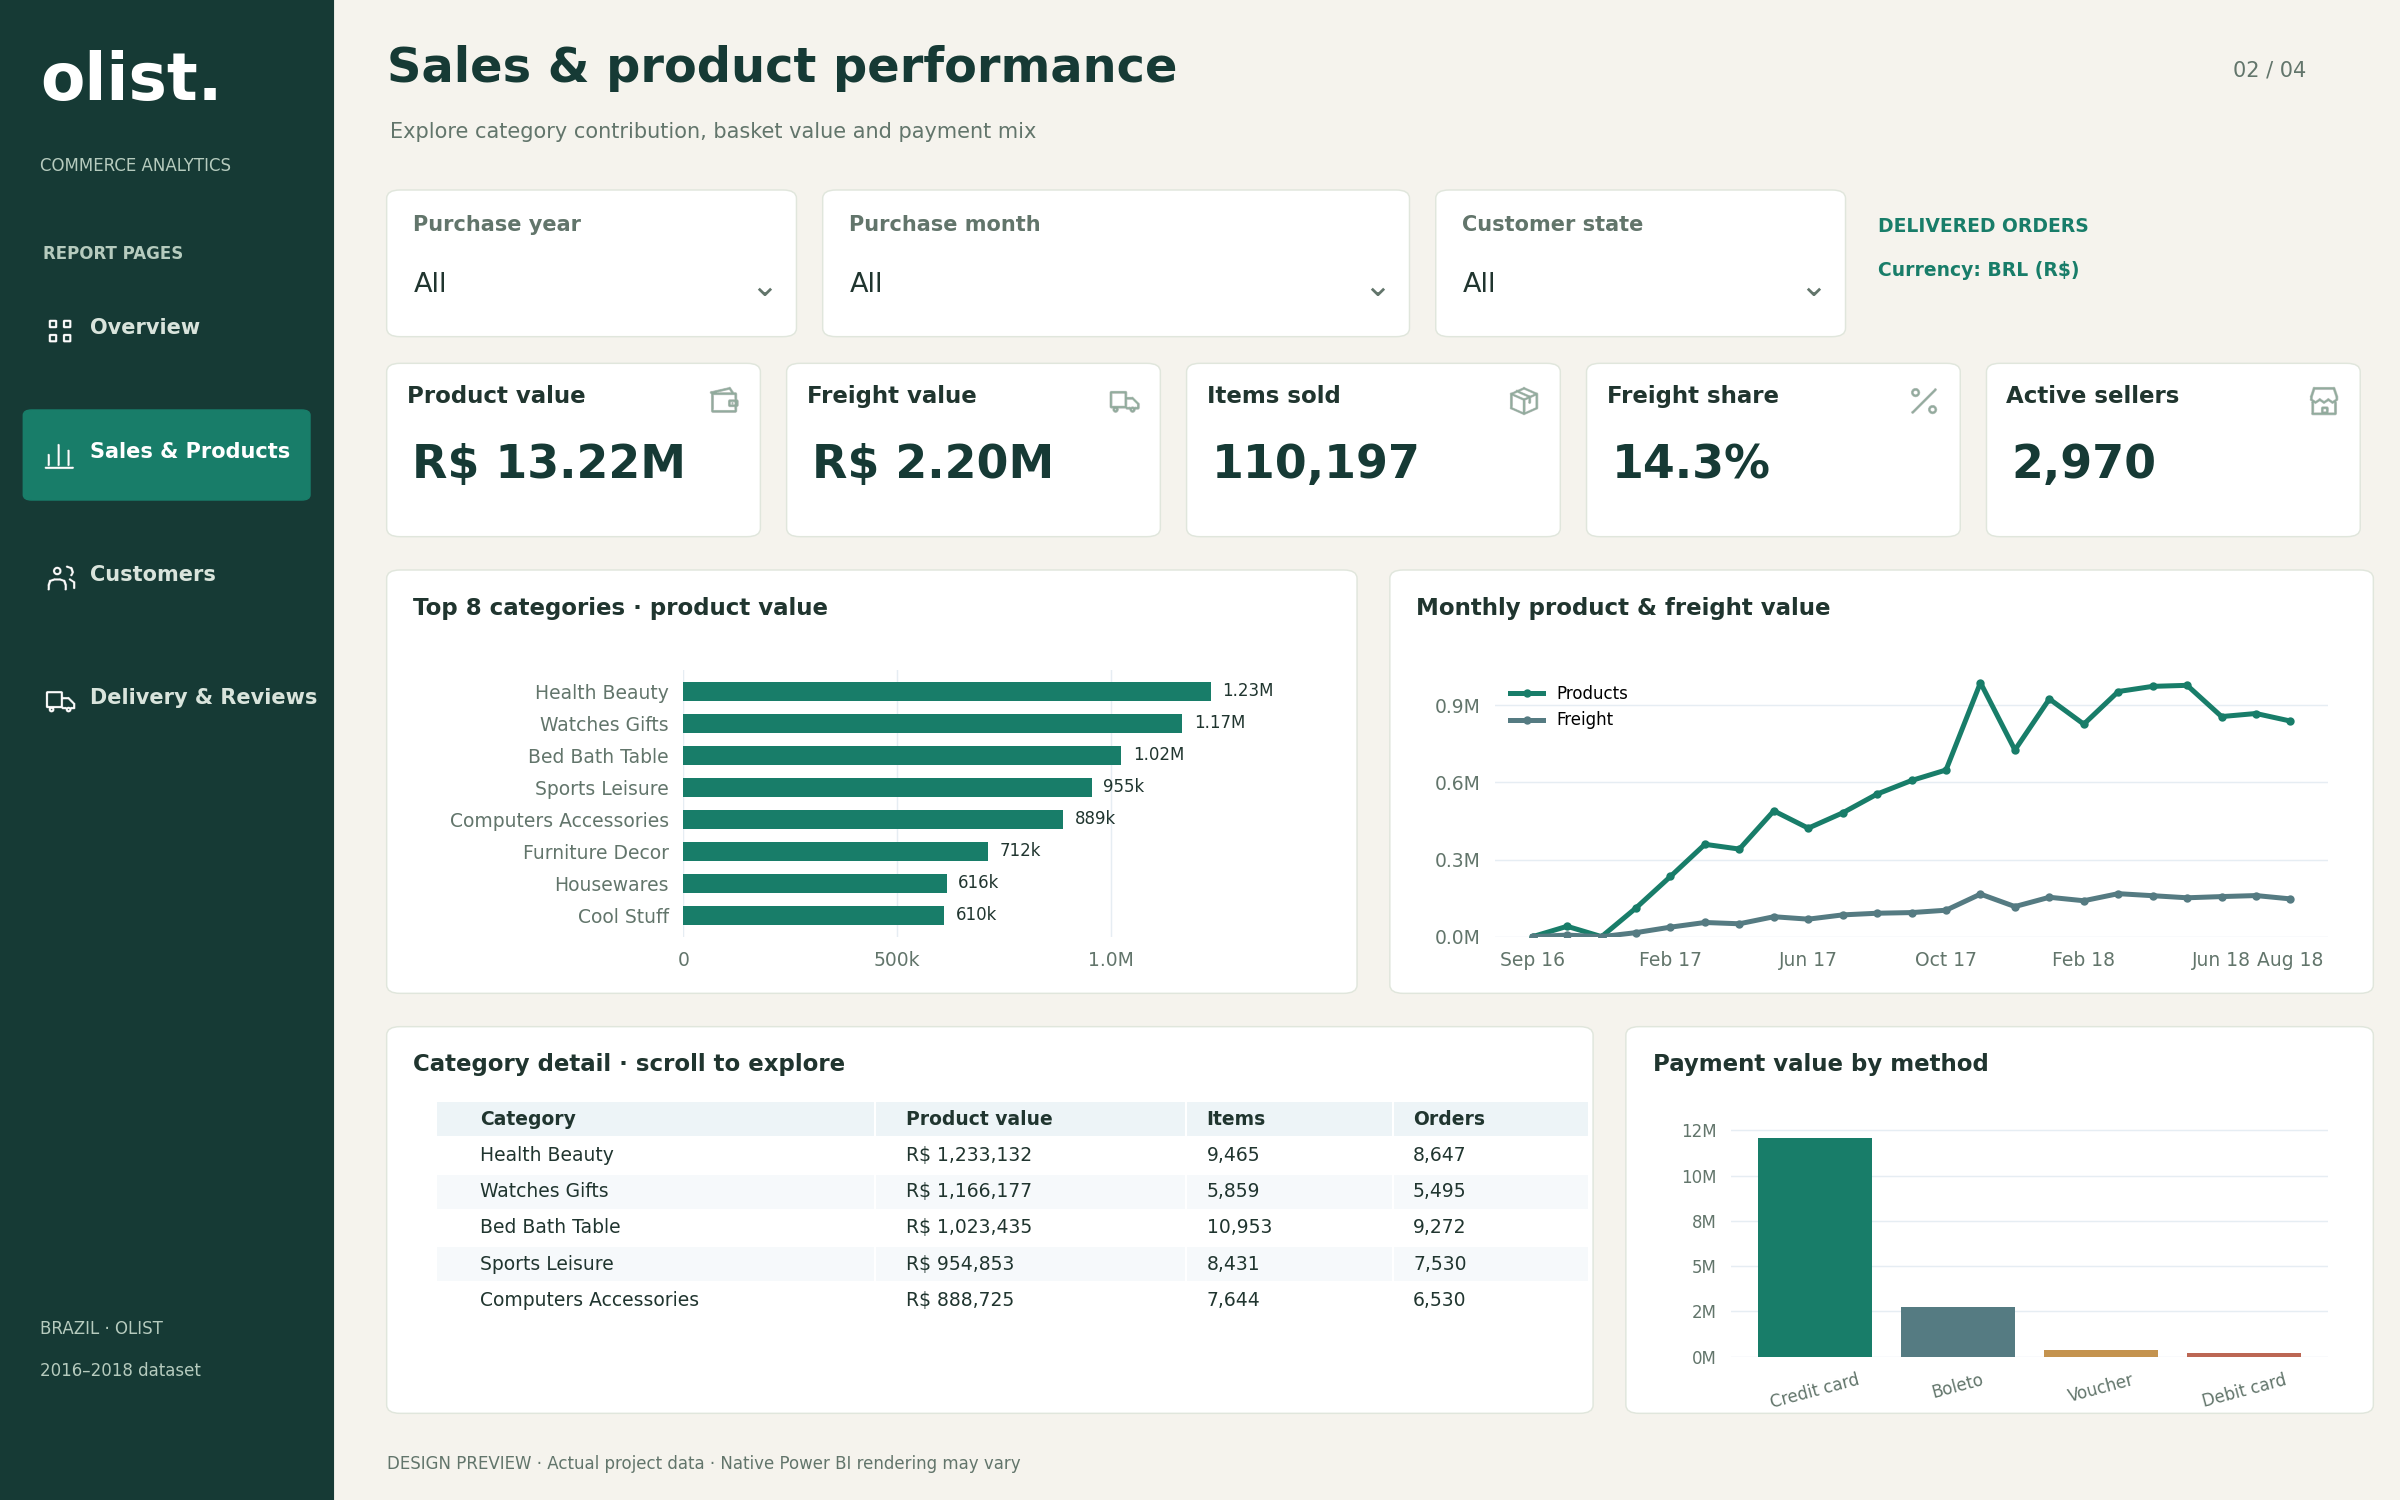

The page's visual inventory and layout, read from the dashboard file:
{"tool":"powerbi","page":{"name":"Sales & Products","canvas":[1440,900],"ordinal":1},"visuals":[{"type":"textbox","box":[0,0,200,900],"z":30},{"type":"textbox","box":[24,22,135,68],"z":31},{"type":"textbox","box":[24,94,140,38],"z":32},{"type":"actionButton","box":[14,172,172,54],"z":33},{"type":"actionButton","box":[14,246,172,54],"z":34},{"type":"actionButton","box":[14,320,172,54],"z":35},{"type":"actionButton","box":[14,394,172,54],"z":36},{"type":"textbox","box":[24,790,142,78],"z":37},{"type":"textbox","box":[232,18,1022.8,58],"z":38},{"type":"textbox","box":[234,72,1022.8,36],"z":39},{"type":"slicer","title":"Purchase Year","fields":{"Values":["Date.Year"]},"box":[232,114,245.9,88],"z":40},{"type":"slicer","title":"Purchase Month","fields":{"Values":["Date.Month"]},"box":[493.6,114,352.1,88],"z":41},{"type":"slicer","title":"Customer state","fields":{"Values":["Orders.State"]},"box":[861.4,114,245.9,88],"z":42},{"type":"textbox","box":[1127,114,277.4,88],"z":43},{"type":"textbox","box":[232,854,1172.3,38],"z":44},{"type":"card","fields":{"Values":["Orders.Card · Product Revenue"]},"box":[232,218,224.2,104],"z":45},{"type":"card","fields":{"Values":["Orders.Card · Freight Value"]},"box":[472,218,224.2,104],"z":46},{"type":"card","fields":{"Values":["Orders.Card · Items Sold"]},"box":[712,218,224.2,104],"z":47},{"type":"card","fields":{"Values":["Orders.Card · Freight Share"]},"box":[951.9,218,224.2,104],"z":48},{"type":"card","fields":{"Values":["Orders.Card · Active Sellers"]},"box":[1191.9,218,224.2,104],"z":49},{"type":"clusteredBarChart","title":"Top 8 categories · product value","fields":{"Category":["Items.Category"],"Y":["Orders.Top Category Revenue"]},"box":[232,342,582.2,254],"z":50},{"type":"lineChart","title":"Monthly product & freight value","fields":{"Category":["Date.Month Start"],"Y":["Orders.Product Revenue","Orders.Freight Value"]},"box":[833.9,342,590.1,254],"z":51},{"type":"tableEx","title":"Category detail · scroll to explore","fields":{"Values":["Items.Category","Orders.Product Revenue","Orders.Items Sold","Orders.Delivered Orders","Orders.Freight Share"]},"box":[232,616,723.9,232],"z":52},{"type":"clusteredColumnChart","title":"Payment value by method","fields":{"Category":["Payments.Payment Method"],"Y":["Orders.Payment Value"]},"box":[975.5,616,448.5,232],"z":53},{"type":"textbox","box":[244,231,172.2,26],"z":101},{"type":"image","box":[424.2,231,20,20],"z":102},{"type":"textbox","box":[484,231,172.2,26],"z":103},{"type":"image","box":[664.2,231,20,20],"z":104},{"type":"textbox","box":[724,231,172.2,26],"z":105},{"type":"image","box":[904.2,231,20,20],"z":106},{"type":"textbox","box":[963.9,231,172.2,26],"z":107},{"type":"image","box":[1144.2,231,20,20],"z":108},{"type":"textbox","box":[1203.9,231,172.2,26],"z":109},{"type":"image","box":[1384.1,231,20,20],"z":110},{"type":"textbox","box":[26,147,150,22],"z":111},{"type":"textbox","box":[1340,36,80,26],"z":112}]}

Visuals, with their boxes on the page's 1440x900 design canvas (x1, y1, x2, y2). These are canvas units, not pixel positions in the 2400x1500 screenshot, which may show the page scaled, cropped or inside an application window:
textbox: (left=0, top=0, right=200, bottom=900)
textbox: (left=24, top=22, right=159, bottom=90)
textbox: (left=24, top=94, right=164, bottom=132)
actionButton: (left=14, top=172, right=186, bottom=226)
actionButton: (left=14, top=246, right=186, bottom=300)
actionButton: (left=14, top=320, right=186, bottom=374)
actionButton: (left=14, top=394, right=186, bottom=448)
textbox: (left=24, top=790, right=166, bottom=868)
textbox: (left=232, top=18, right=1255, bottom=76)
textbox: (left=234, top=72, right=1257, bottom=108)
"Purchase Year" slicer: (left=232, top=114, right=478, bottom=202)
"Purchase Month" slicer: (left=494, top=114, right=846, bottom=202)
"Customer state" slicer: (left=861, top=114, right=1107, bottom=202)
textbox: (left=1127, top=114, right=1404, bottom=202)
textbox: (left=232, top=854, right=1404, bottom=892)
card - Orders.Card · Product Revenue: (left=232, top=218, right=456, bottom=322)
card - Orders.Card · Freight Value: (left=472, top=218, right=696, bottom=322)
card - Orders.Card · Items Sold: (left=712, top=218, right=936, bottom=322)
card - Orders.Card · Freight Share: (left=952, top=218, right=1176, bottom=322)
card - Orders.Card · Active Sellers: (left=1192, top=218, right=1416, bottom=322)
"Top 8 categories · product value" clusteredBarChart: (left=232, top=342, right=814, bottom=596)
"Monthly product & freight value" lineChart: (left=834, top=342, right=1424, bottom=596)
"Category detail · scroll to explore" tableEx: (left=232, top=616, right=956, bottom=848)
"Payment value by method" clusteredColumnChart: (left=976, top=616, right=1424, bottom=848)
textbox: (left=244, top=231, right=416, bottom=257)
image: (left=424, top=231, right=444, bottom=251)
textbox: (left=484, top=231, right=656, bottom=257)
image: (left=664, top=231, right=684, bottom=251)
textbox: (left=724, top=231, right=896, bottom=257)
image: (left=904, top=231, right=924, bottom=251)
textbox: (left=964, top=231, right=1136, bottom=257)
image: (left=1144, top=231, right=1164, bottom=251)
textbox: (left=1204, top=231, right=1376, bottom=257)
image: (left=1384, top=231, right=1404, bottom=251)
textbox: (left=26, top=147, right=176, bottom=169)
textbox: (left=1340, top=36, right=1420, bottom=62)
